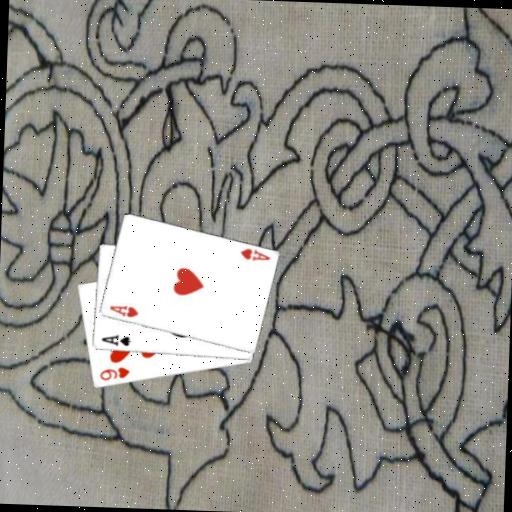9H: (96, 363, 131, 383)
AH: (105, 301, 139, 319), (237, 245, 271, 263)
AS: (98, 331, 132, 348)
